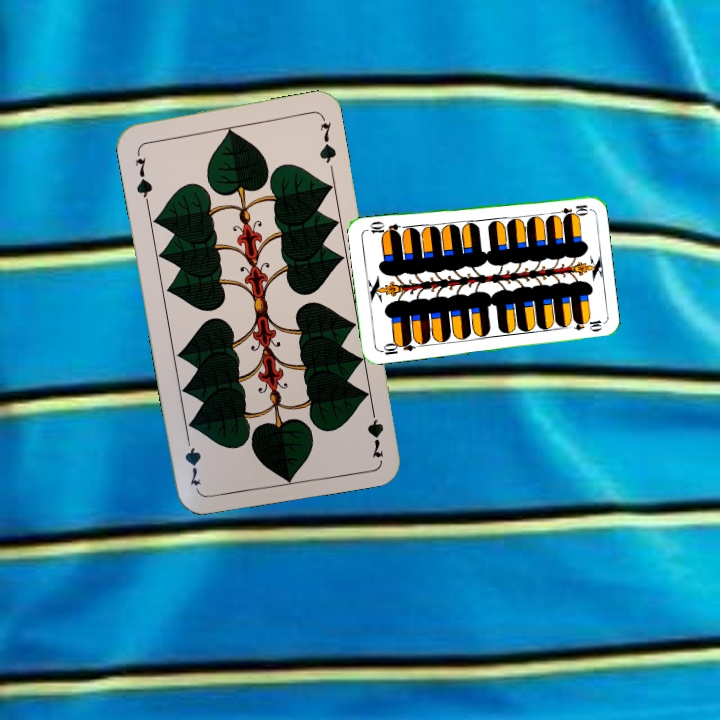E10: (376, 336, 417, 358), (550, 200, 591, 218)
G7: (131, 146, 155, 205), (363, 400, 386, 460)
